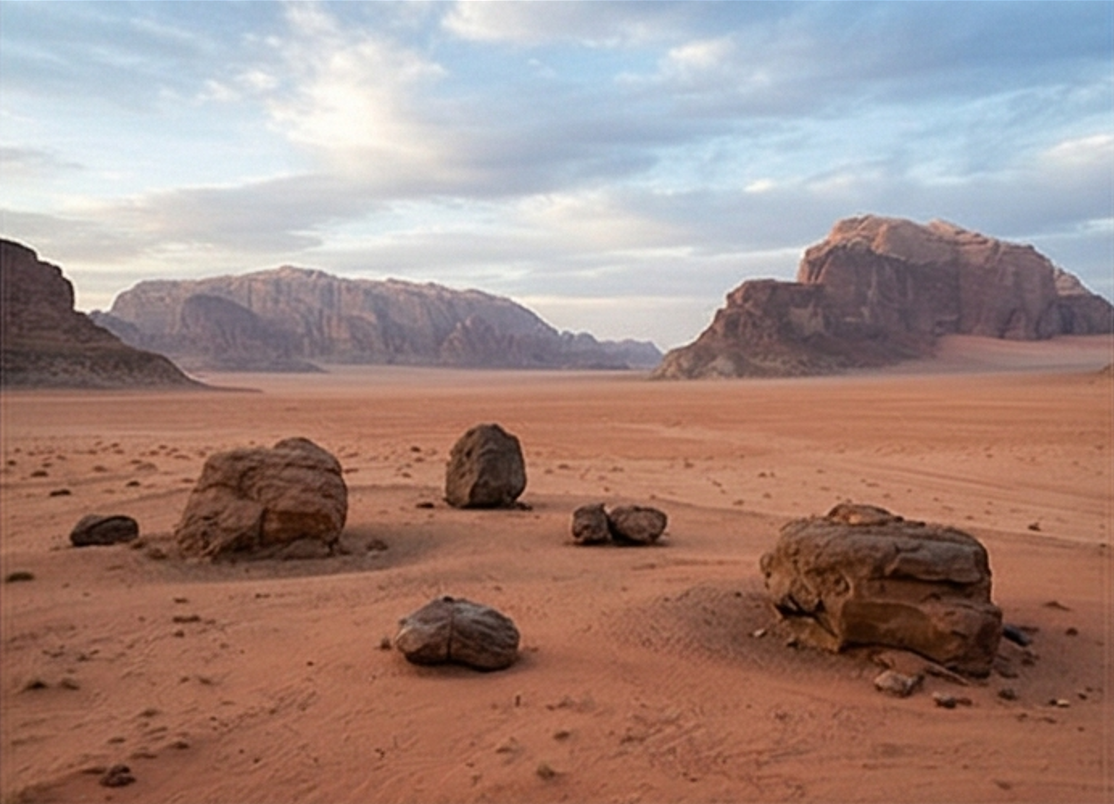rocks: (761, 504, 1002, 673), (174, 437, 347, 558), (396, 596, 519, 668), (445, 424, 525, 507), (572, 504, 667, 544), (71, 514, 138, 545)
